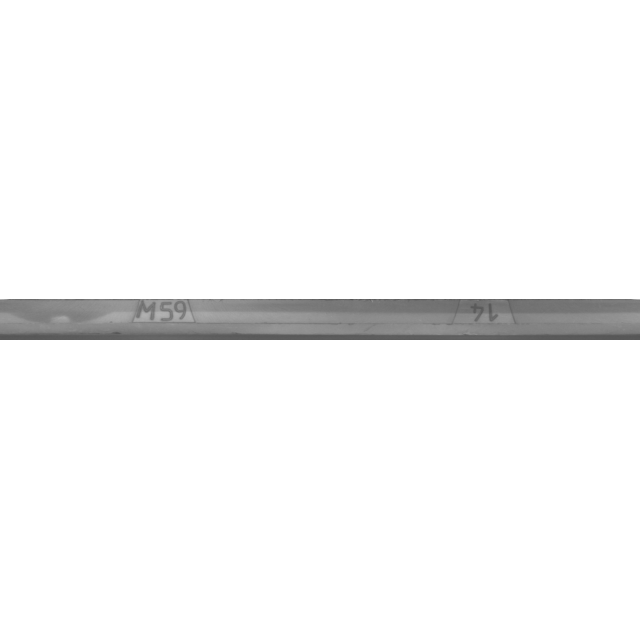mohao: (59, 270, 259, 370)
xuehao: (387, 270, 587, 370)
